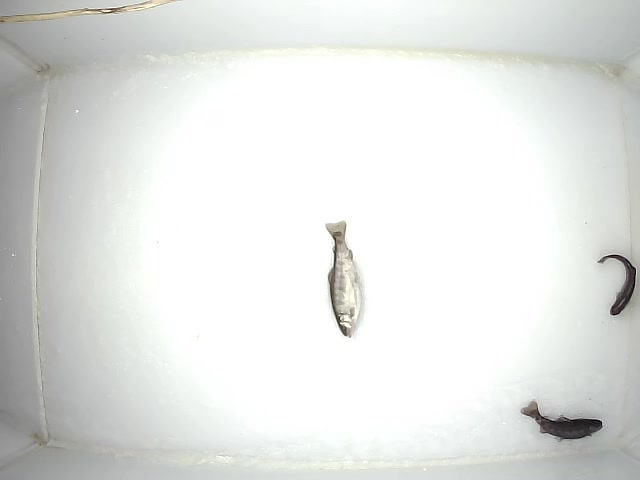fish: (323, 219, 364, 339), (518, 395, 603, 441), (596, 252, 637, 319)
